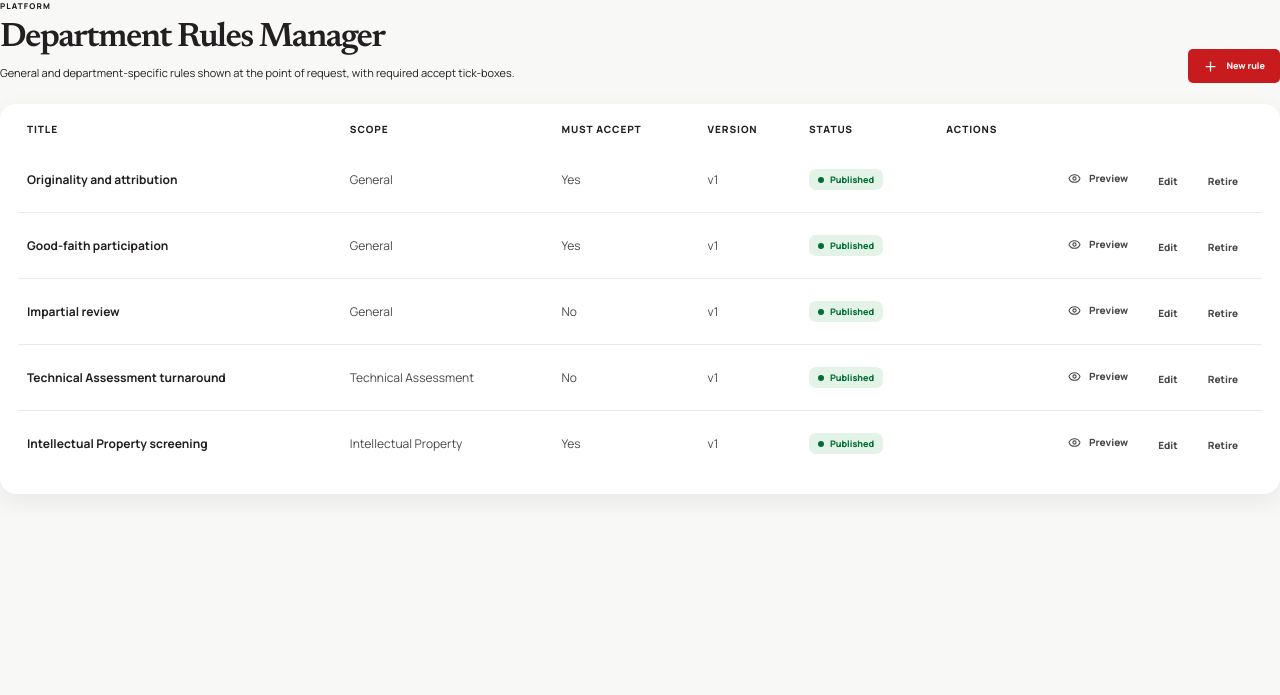
RulesManagerPage › creates a new general rule as a draft, then publishes it
Expected: the row "Originality and attribution" is shown, [18,147,1262,213]
Click the button "New rule": coordinates (1234, 66) [1188,49,1279,83]
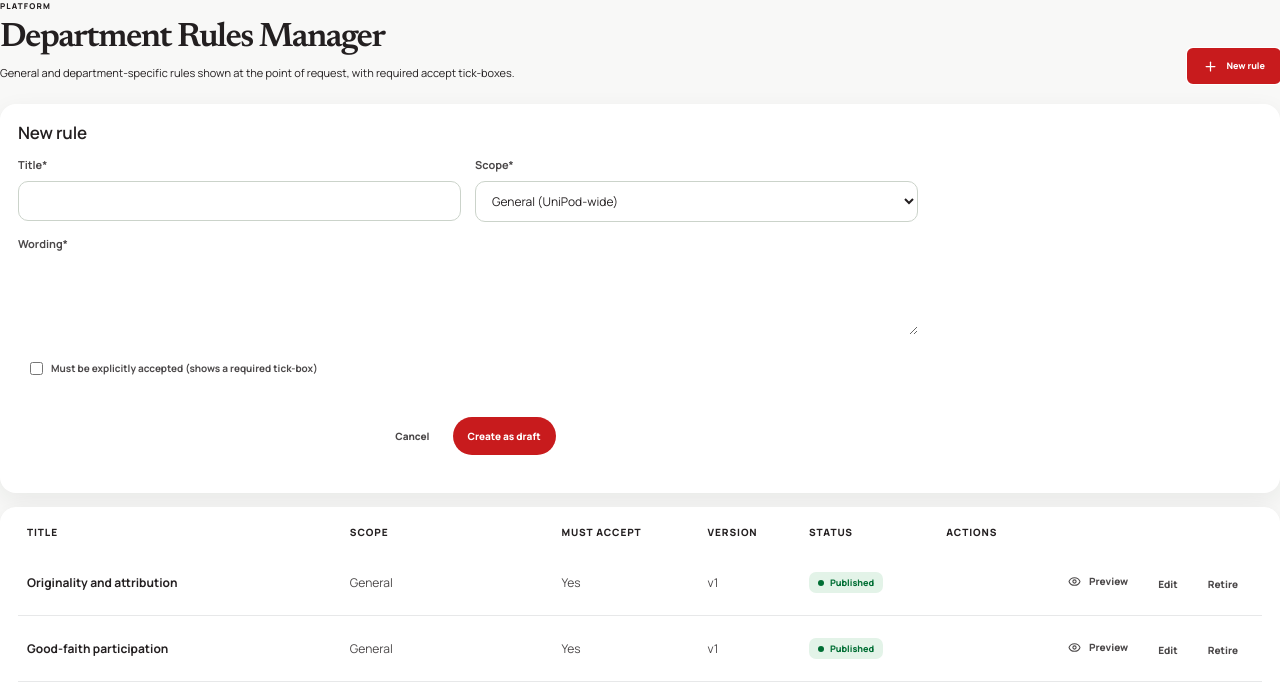
In the field labelled "Title*": coordinates (240, 201) [18,181,461,221], type "Equipment liability"
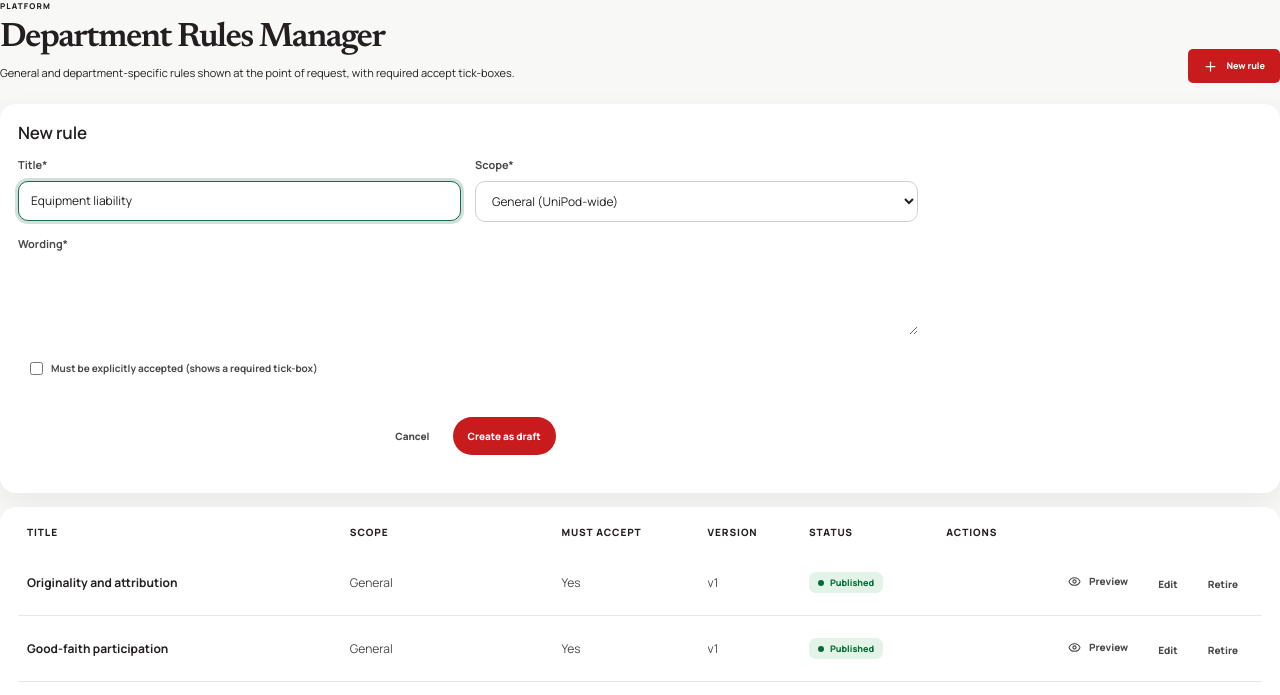
In the text box labelled "Wording*": coordinates (468, 297) [18,259,918,335], type "The submitter is liable for damage caused by misuse of lent equipment."
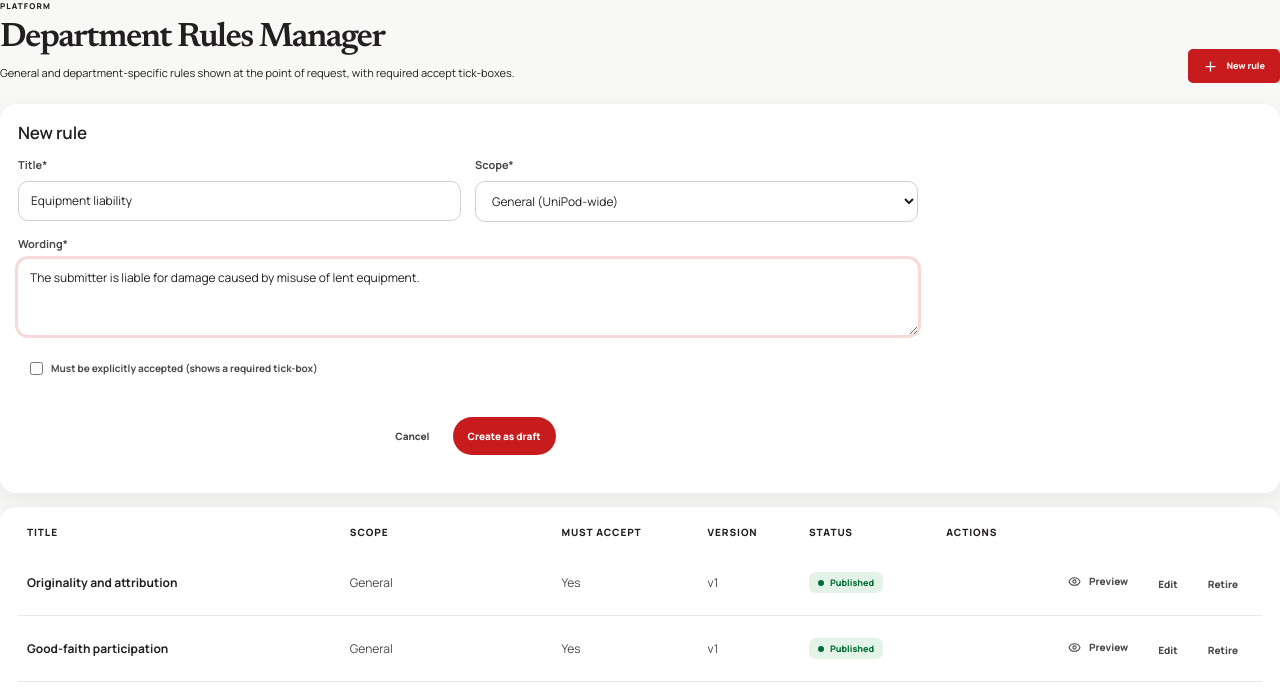
Click the button "Create as draft": coordinates (504, 436) [452,417,556,455]
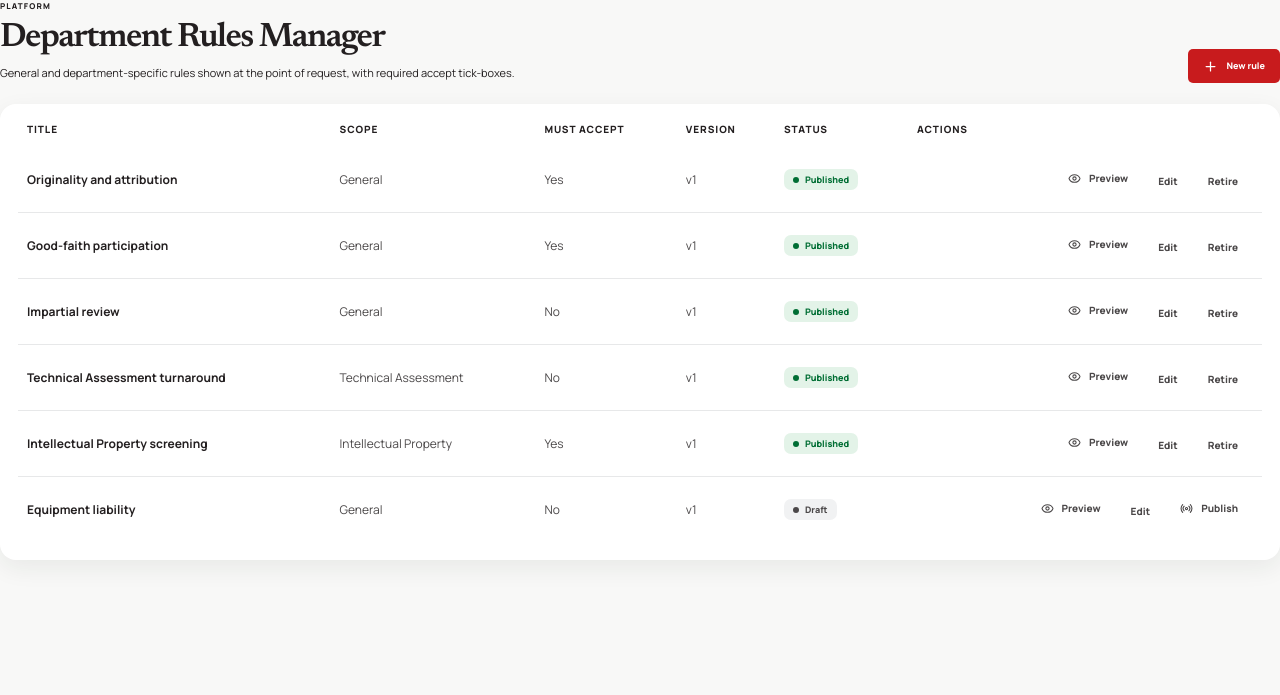
Now the text "Draft" is shown, box [784,499,837,520]
Click the button "Publish": coordinates (1209, 508) [1165,489,1253,527]
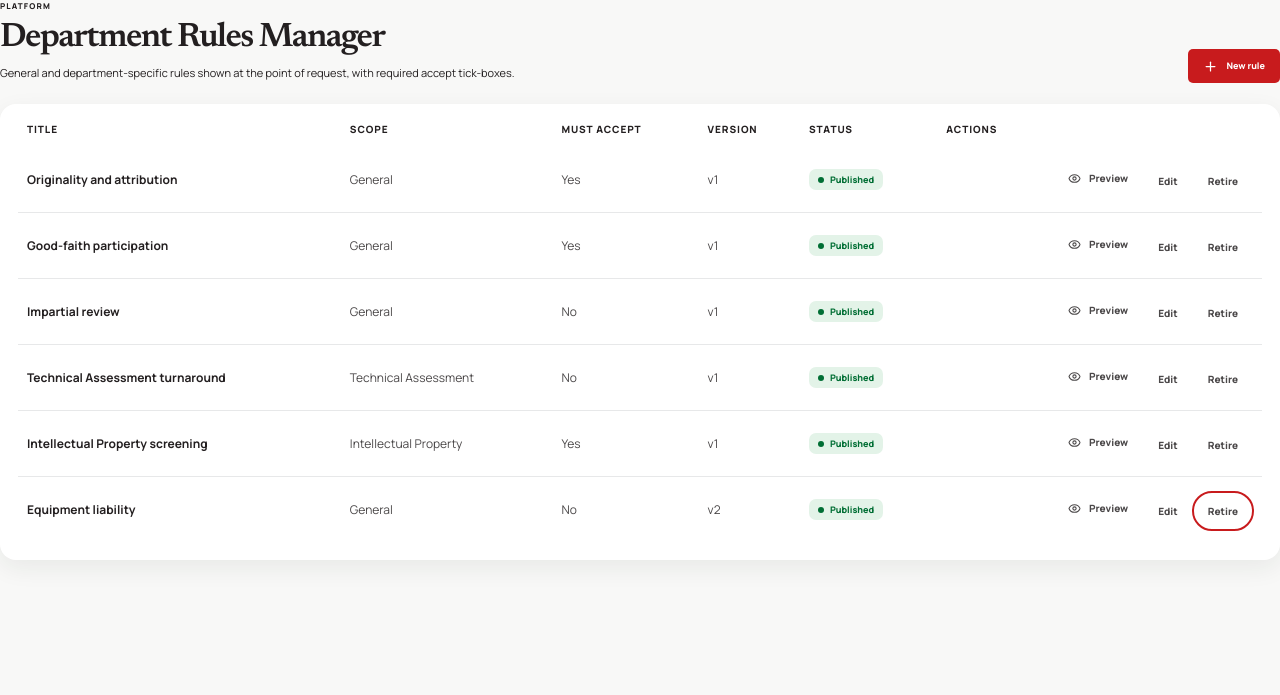
Now the text "Published" in the row of "Equipment liability" is shown, box [830,503,874,516]
